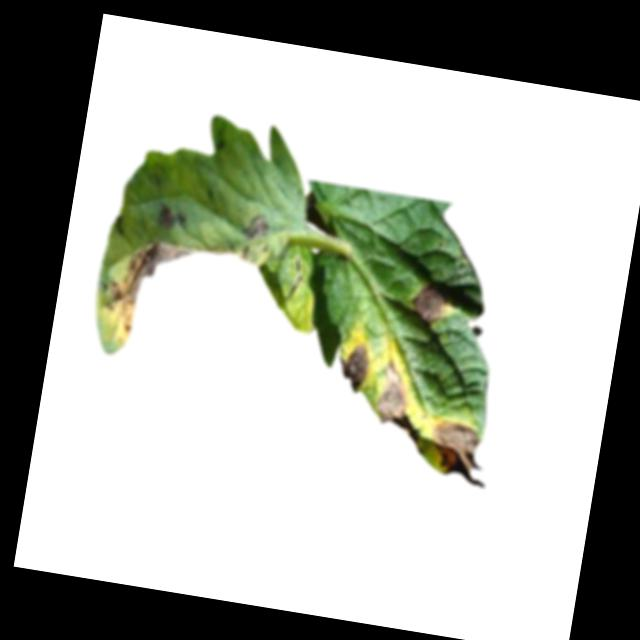Early_blight: (95, 231, 197, 350), (422, 420, 493, 491), (371, 358, 427, 445), (338, 339, 373, 396), (411, 284, 448, 324), (153, 203, 187, 232), (245, 214, 268, 242)
